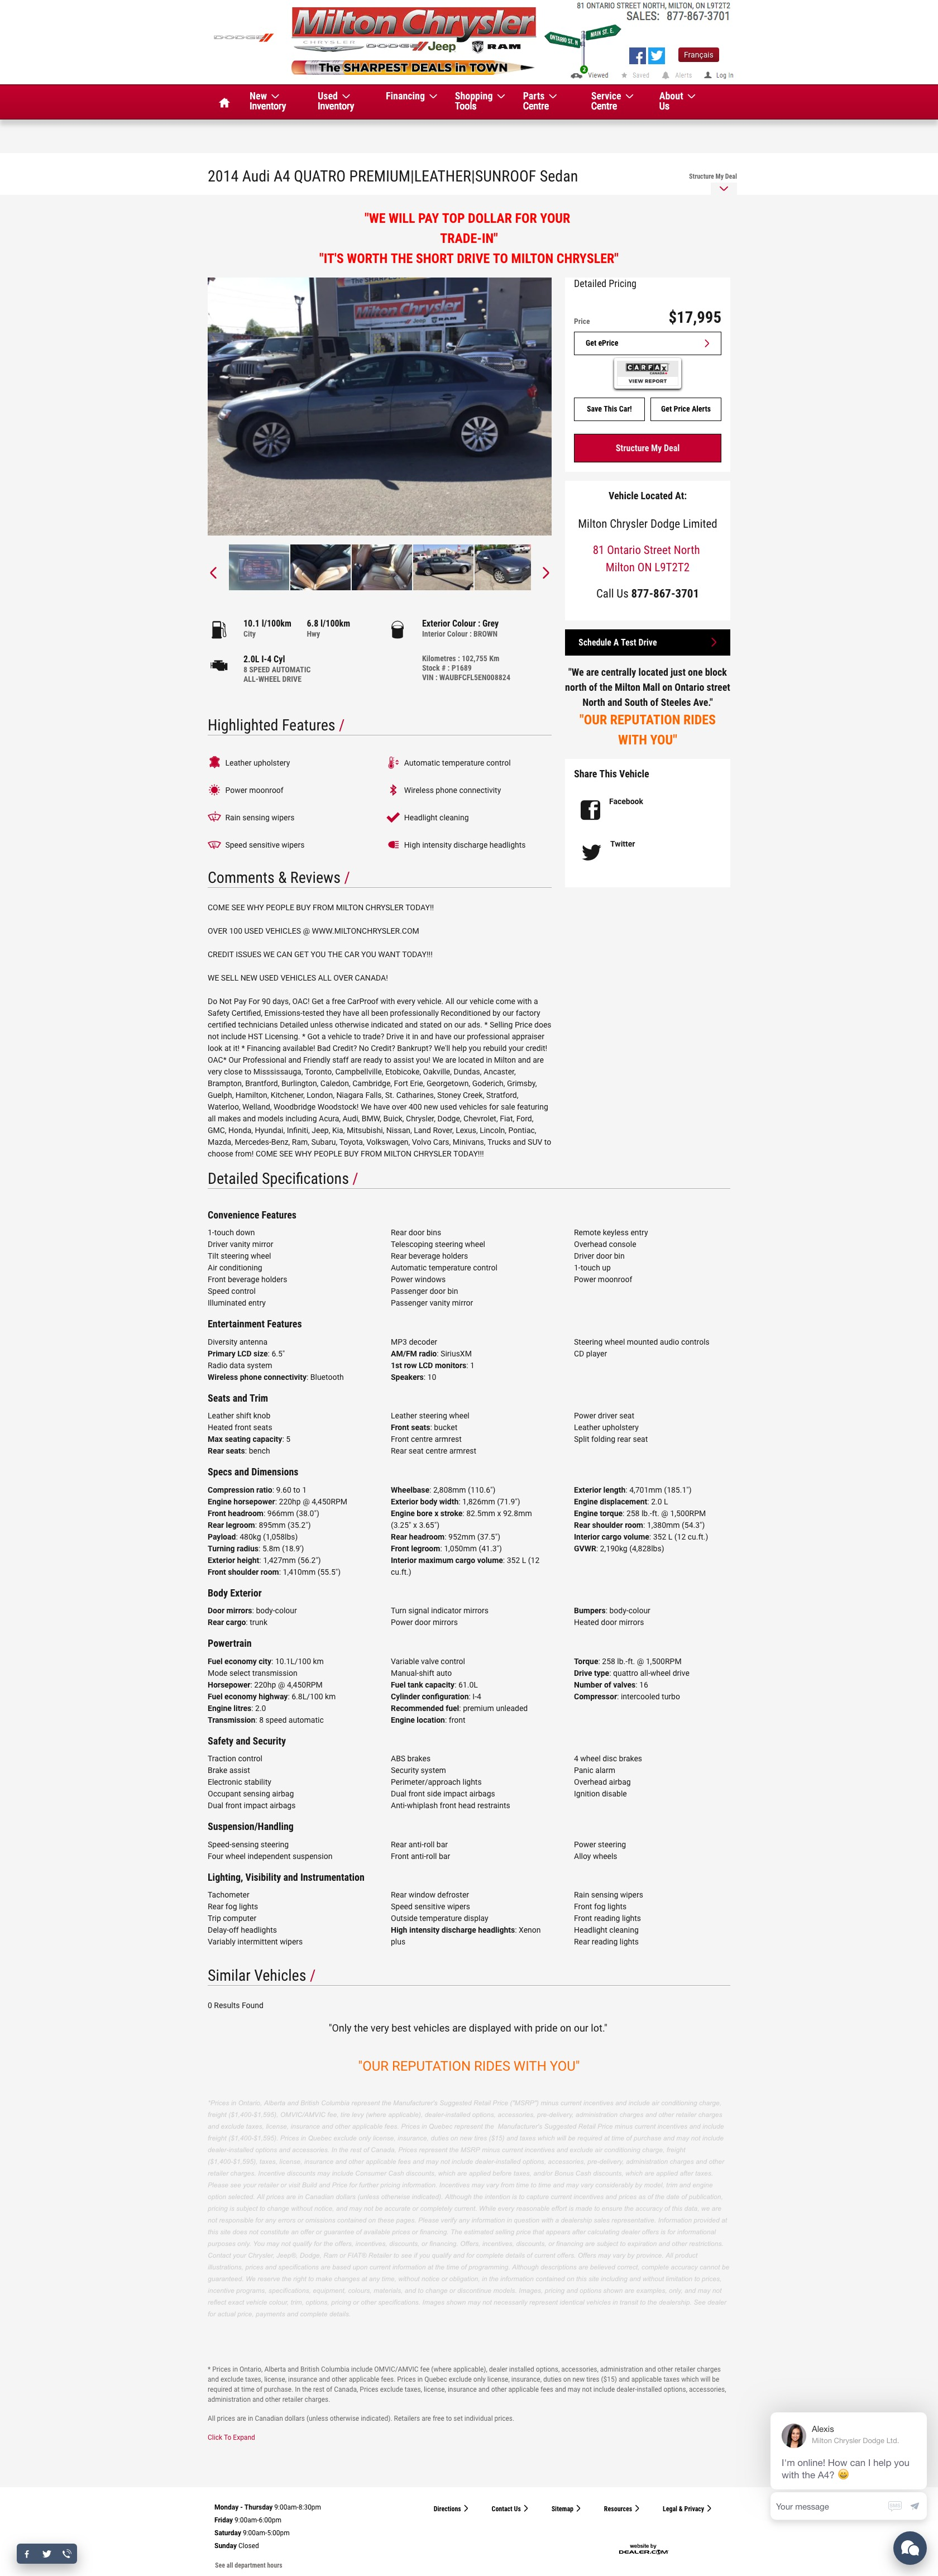car: (542, 567, 550, 578)
